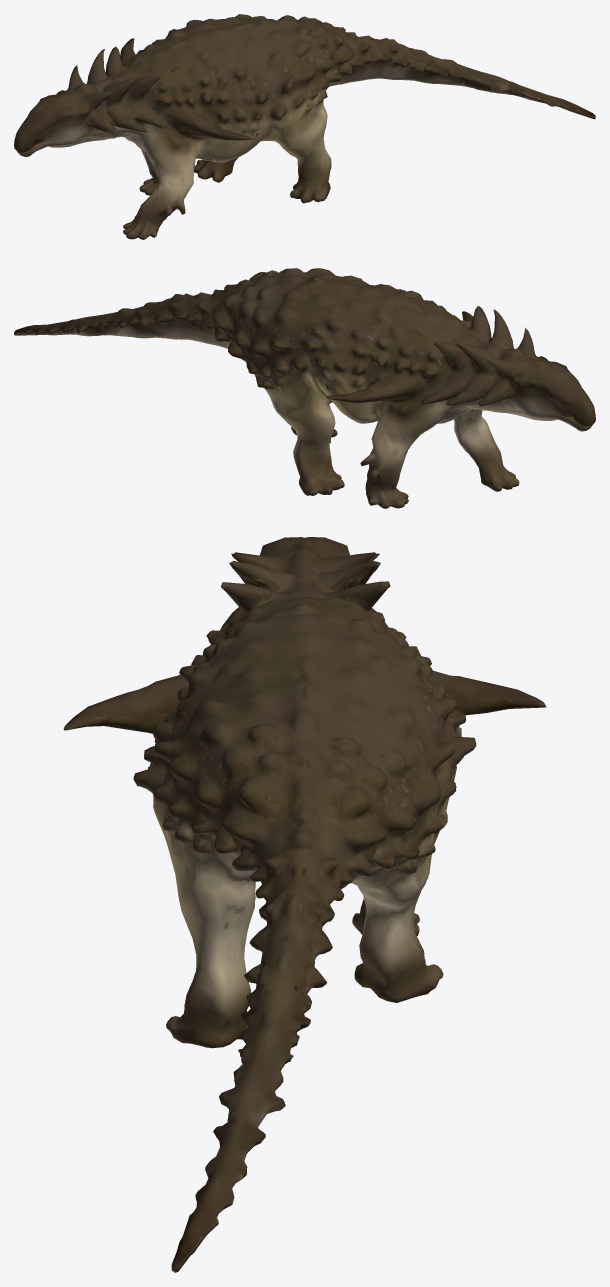
The model's file is nature-sauropelta.glb.
The picture shows the model from 3 angles, top to bottom: view 1: azimuth 30°, elevation 25°; view 2: azimuth 150°, elevation 25°; view 3: azimuth 270°, elevation 25°; orthographic projection. The views are drawn at different scales.
Parts seen in each view (by area): view 1: Animal; view 2: Animal; view 3: Animal.
Part boxes in pixels (box(x1,y1,x2,y2)): Animal: box(14, 14, 595, 239); Animal: box(14, 268, 595, 508); Animal: box(63, 537, 546, 1272).
Bounding box in the file's own units: 3.2 × 0.9308 × 1.22.
Materials: 1 (1 with a texture image).
